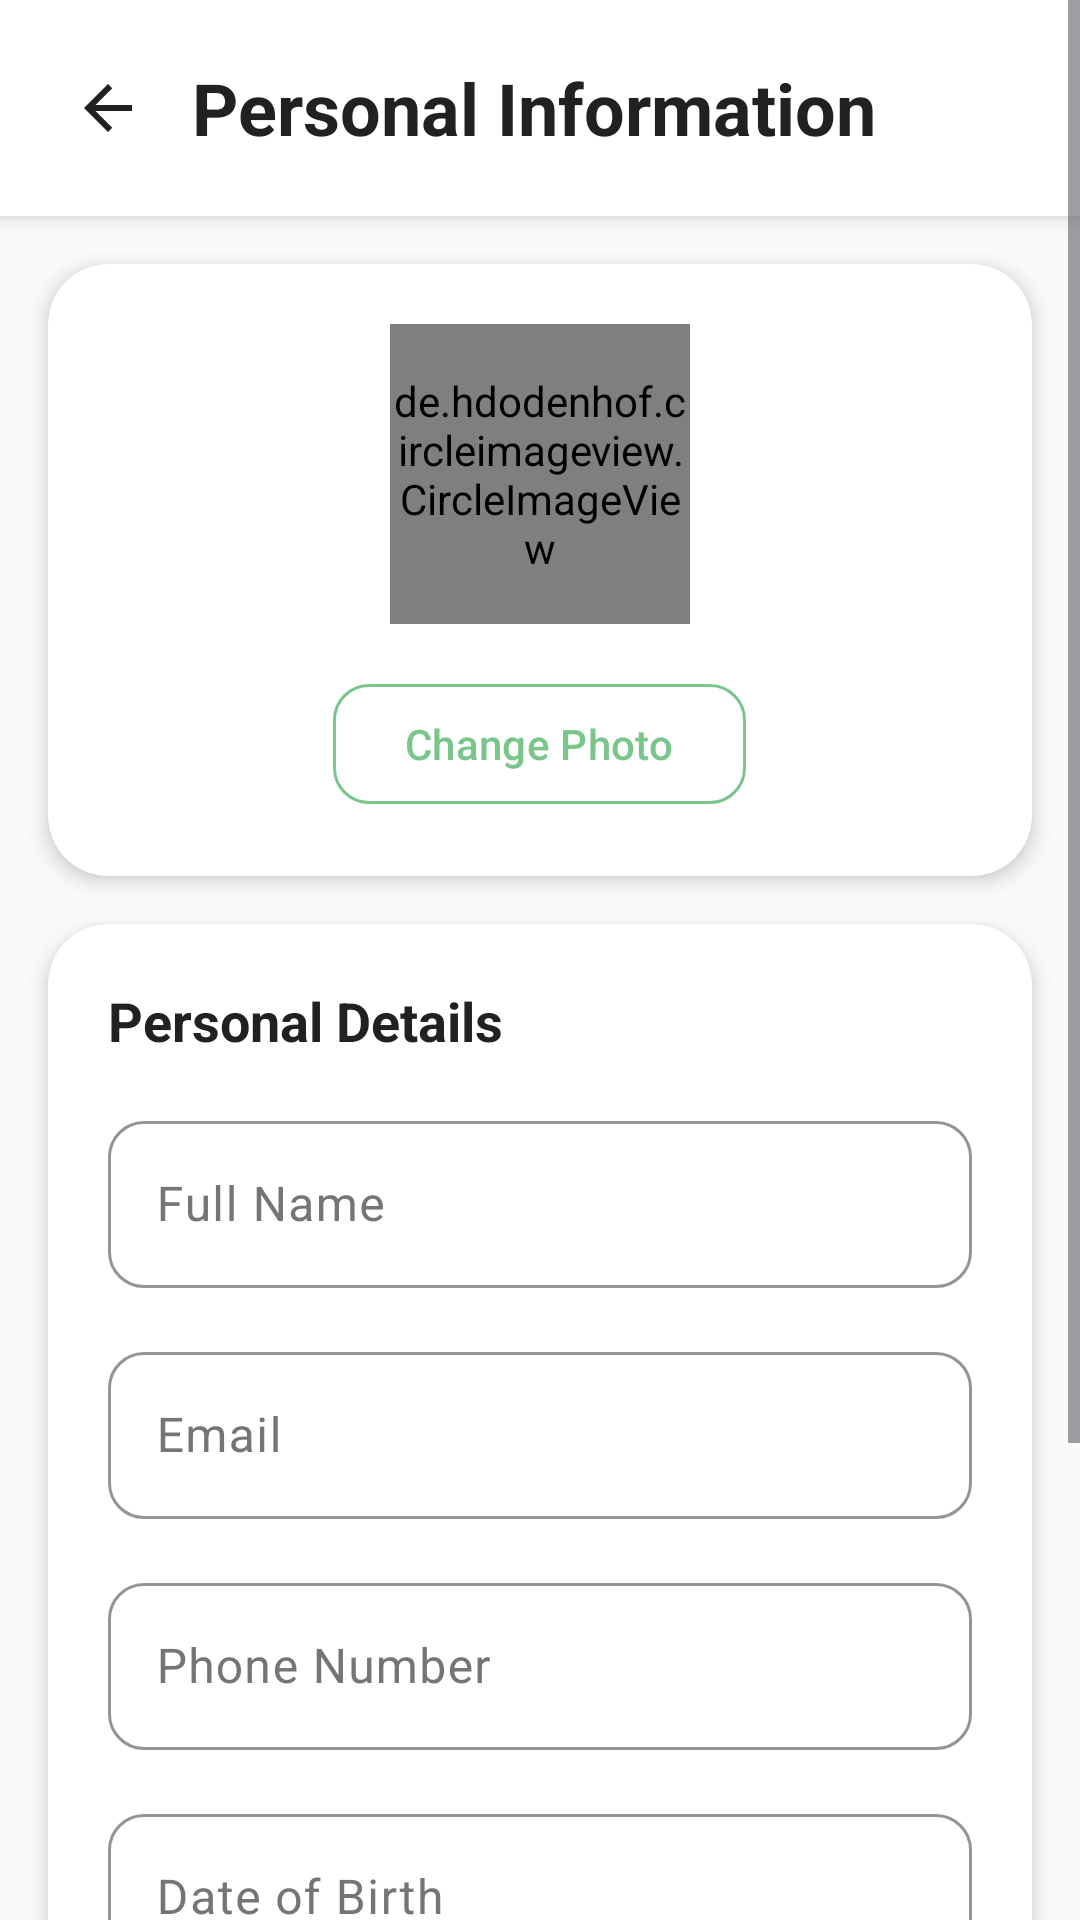

Named icons in this screenshot (1080×1920) and their centers, point (x, y):
Back: point (108, 108)
